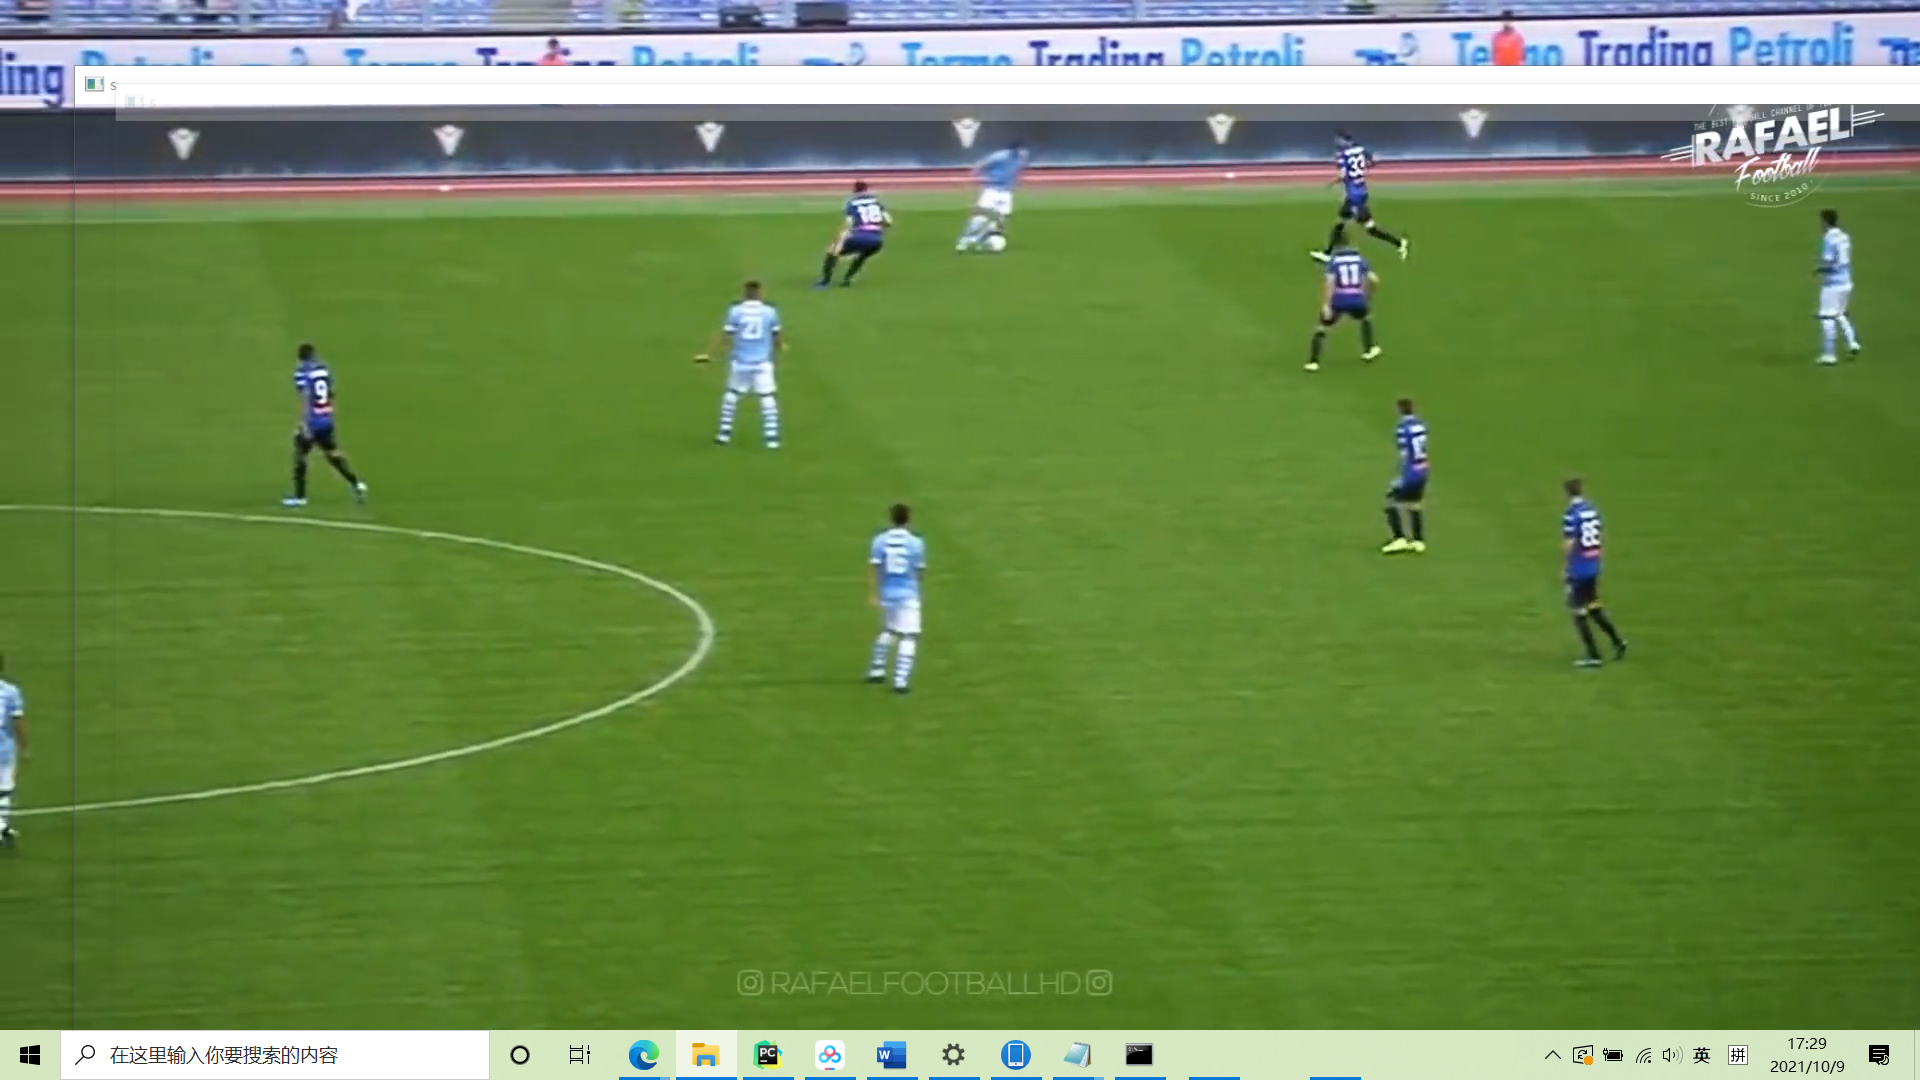ft: (982, 231, 1007, 256)
